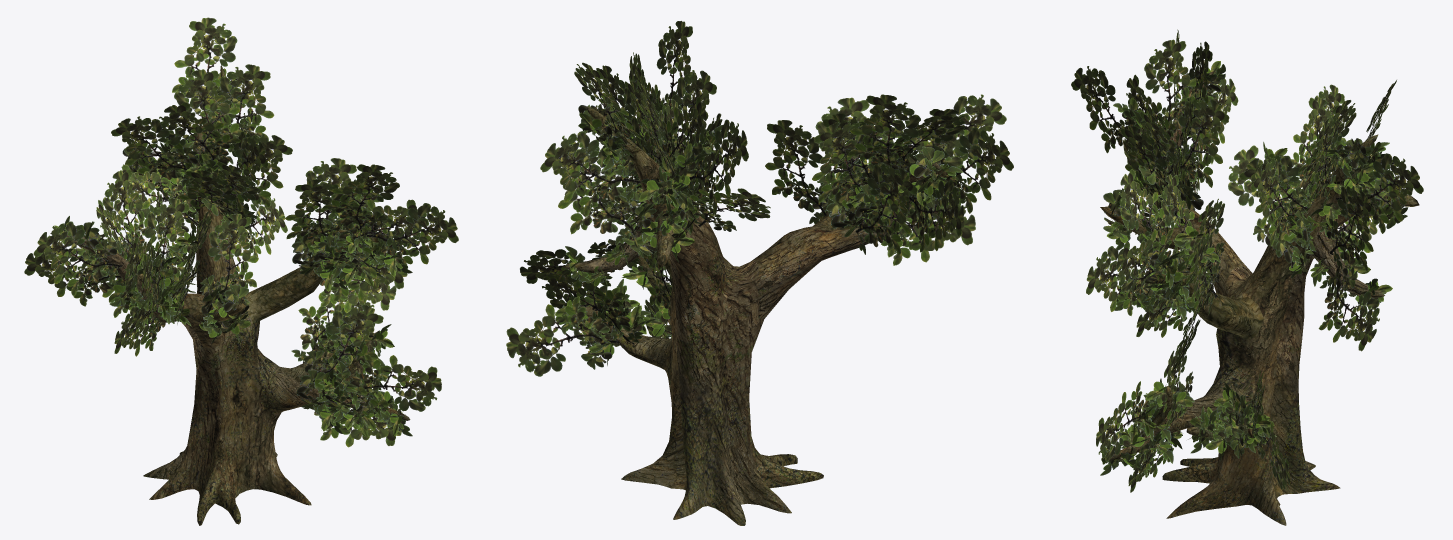
File: tree4.fbx
3 views of the same model, side by side, from view 1: azimuth 30°, elevation 25°; view 2: azimuth 150°, elevation 25°; view 3: azimuth 270°, elevation 25° (orthographic). The views are drawn at different scales.
Visible parts, largest first — view 1: Plane2158, tree4uv001; view 2: Plane2158, tree4uv001; view 3: Plane2158, tree4uv001.
Part boxes in pixels (x1,y1,x2,y2): Plane2158: [24, 17, 458, 447]; tree4uv001: [50, 65, 410, 525]; Plane2158: [506, 21, 1013, 376]; tree4uv001: [562, 106, 948, 525]; Plane2158: [1071, 29, 1423, 492]; tree4uv001: [1100, 67, 1419, 525].
Bounding box in the file's own units: 2532 × 2394 × 1890.
